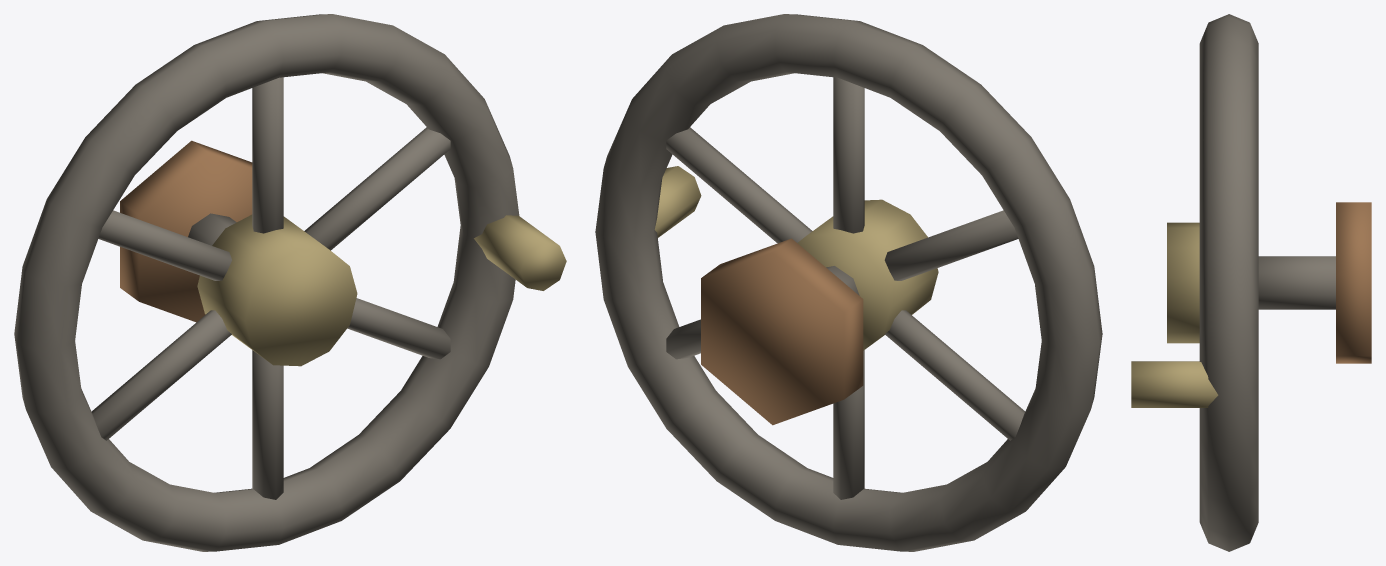
File: hatch_wheel.glb
3 renders of one model, left to right at view 1: azimuth 30°, elevation 25°; view 2: azimuth 150°, elevation 25°; view 3: azimuth 270°, elevation 25°, orthographic. The views are drawn at different scales.
Parts seen in each view (by area): view 1: HatchWheel; view 2: HatchWheel; view 3: HatchWheel.
Part boxes in pixels (bbox=[...]): HatchWheel: bbox=[14, 14, 566, 551]; HatchWheel: bbox=[595, 14, 1102, 551]; HatchWheel: bbox=[1131, 14, 1371, 551].
Size of the model in its own units: 0.303 by 0.303 by 0.135.
